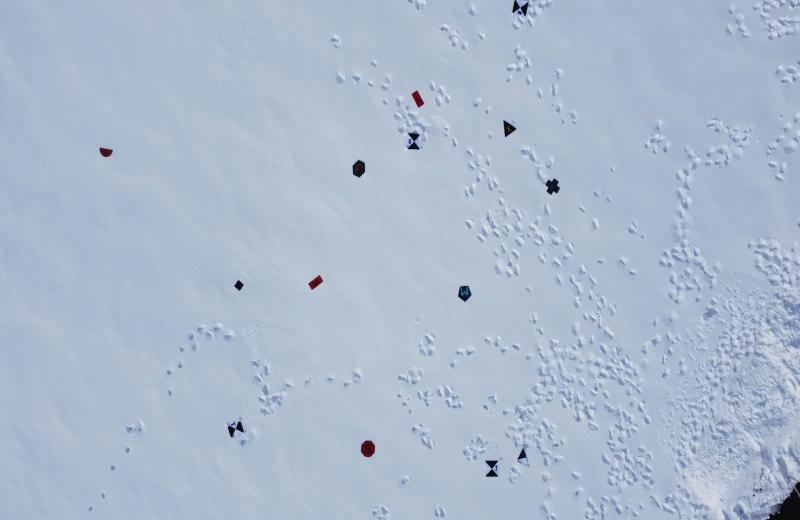Cross: (546, 177, 561, 195)
Hexagon: (351, 158, 367, 179)
Octagon: (360, 439, 376, 457)
Pentagon: (458, 284, 472, 303)
Rectangle: (410, 90, 425, 109), (309, 275, 323, 290)
Semi Circle: (98, 147, 114, 158)
Square: (234, 279, 244, 292)
Triangle: (503, 118, 517, 138)
